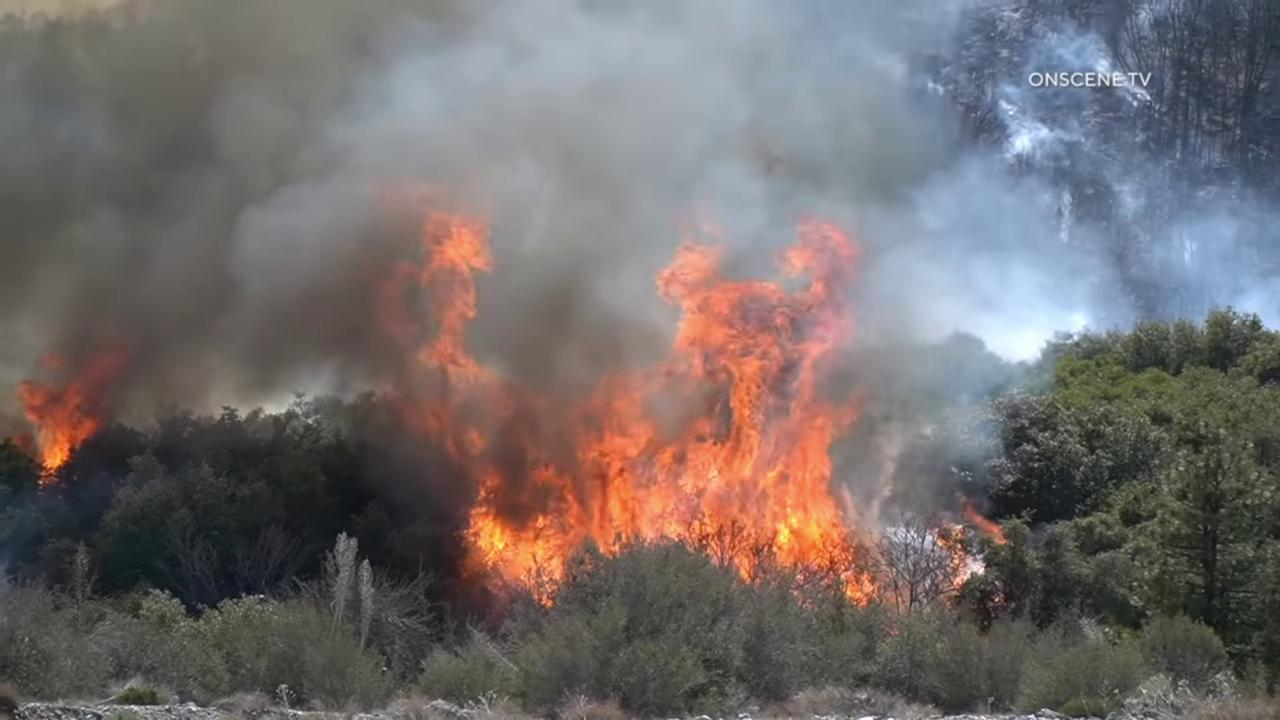fire: (373, 206, 879, 610), (15, 342, 131, 495), (932, 524, 965, 611), (963, 501, 1009, 545)
smoke: (0, 0, 1280, 582)
